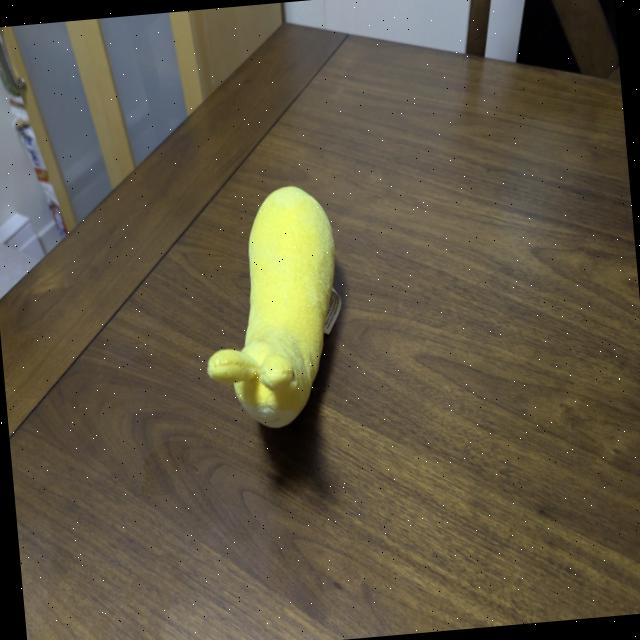banana-slug-toy: (184, 174, 372, 446)
